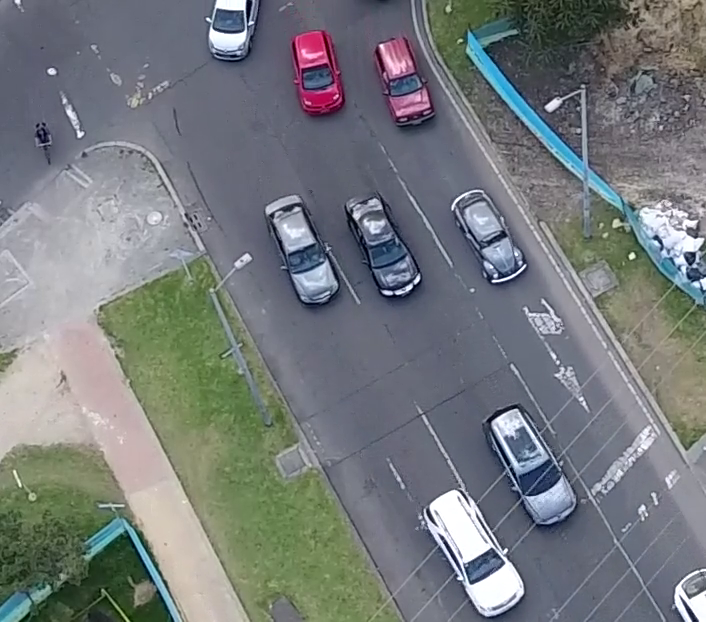car: (417, 486, 526, 618), (480, 403, 580, 529), (343, 187, 425, 304), (261, 191, 341, 308), (446, 184, 531, 287), (369, 35, 436, 129), (289, 27, 346, 121)
